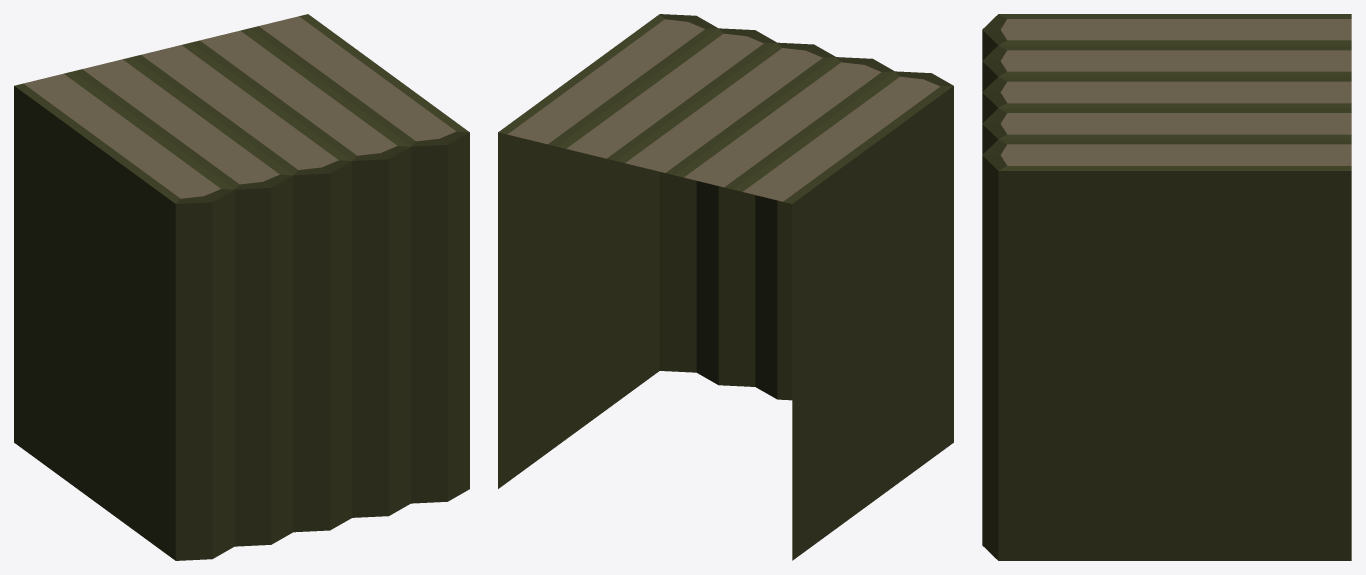
The model's file is Prop_BookBunchG.fbx.
The picture shows the model from 3 angles, left to right: view 1: azimuth 30°, elevation 25°; view 2: azimuth 150°, elevation 25°; view 3: azimuth 270°, elevation 25°; orthographic projection. The views are drawn at different scales.
Visible parts, largest first — view 1: Prop_BookBunchG; view 2: Prop_BookBunchG; view 3: Prop_BookBunchG.
Part boxes in pixels (<box>): Prop_BookBunchG: <box>14,14,469,560</box>; Prop_BookBunchG: <box>498,14,953,560</box>; Prop_BookBunchG: <box>982,14,1351,560</box>.
Size of the model in its own units: 22.35 by 25.92 by 22.25.
